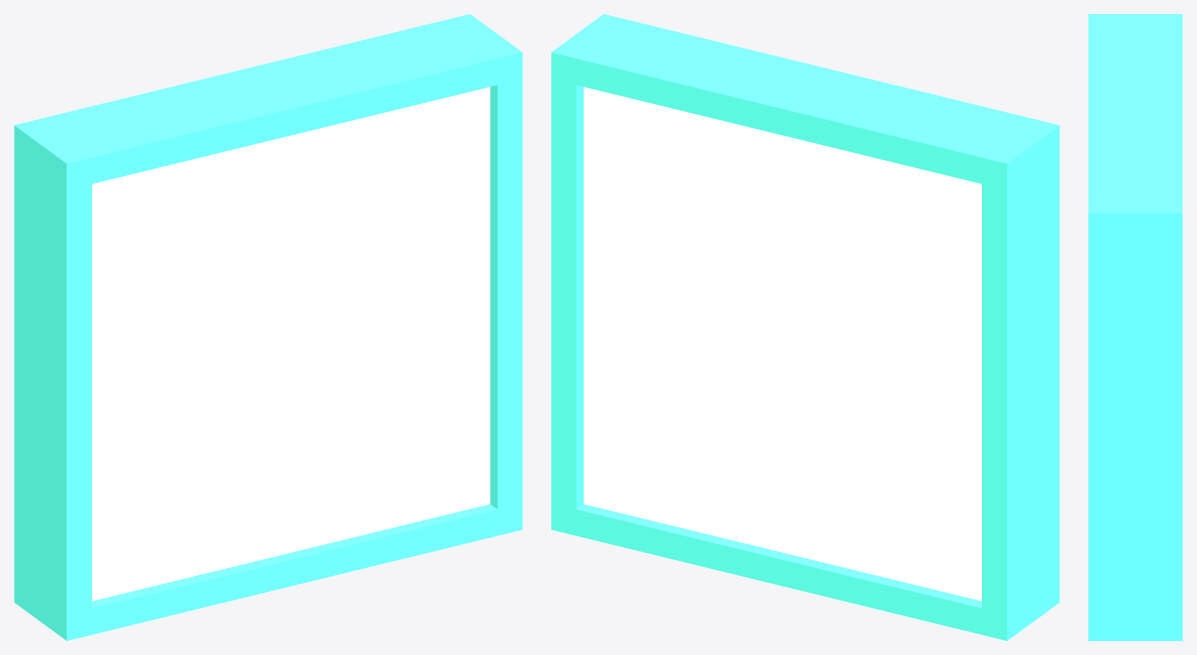
3 renders of one model, left to right at view 1: azimuth 30°, elevation 25°; view 2: azimuth 150°, elevation 25°; view 3: azimuth 270°, elevation 25°, orthographic. The views are drawn at different scales.
Visible parts, largest first — view 1: Icon, File; view 2: Icon, File; view 3: File.
Part boxes in pixels (x1,y1,x2,y2): Icon: (92,87,490,601); File: (14,14,522,640); Icon: (583,87,981,601); File: (551,14,1059,640); File: (1088,14,1182,640).
Size of the model in its own units: 0.05 by 0.05 by 0.01.
